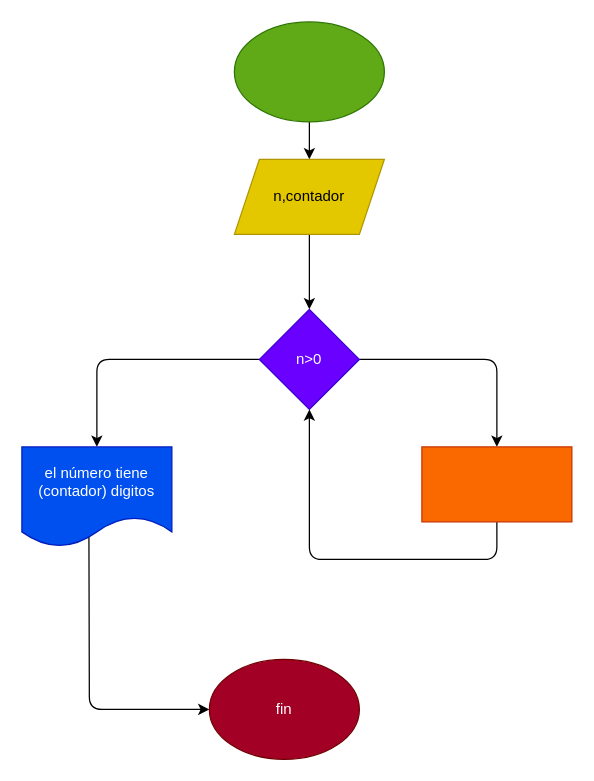
This 594x781 diagram has some shape labels left out. The centre of each missing label's shape, as x and y in pixels:
"inicio" goes at point (308, 71).
"n//10 contador+1" goes at point (496, 484).
